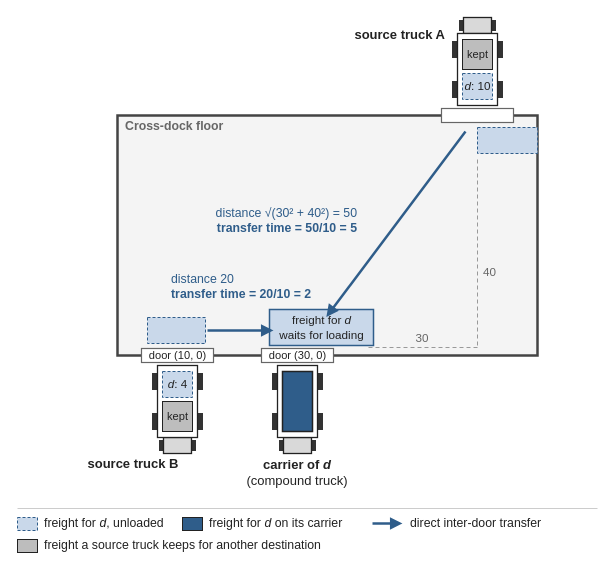
Image size: 615x573. Some labels were removed from this diagram. Each missing label, with the box of its shape:
10 units: (476, 126, 538, 154)
4 units: (146, 316, 206, 344)
d kept: (281, 370, 313, 432)
door (60, 40): (440, 107, 514, 123)
